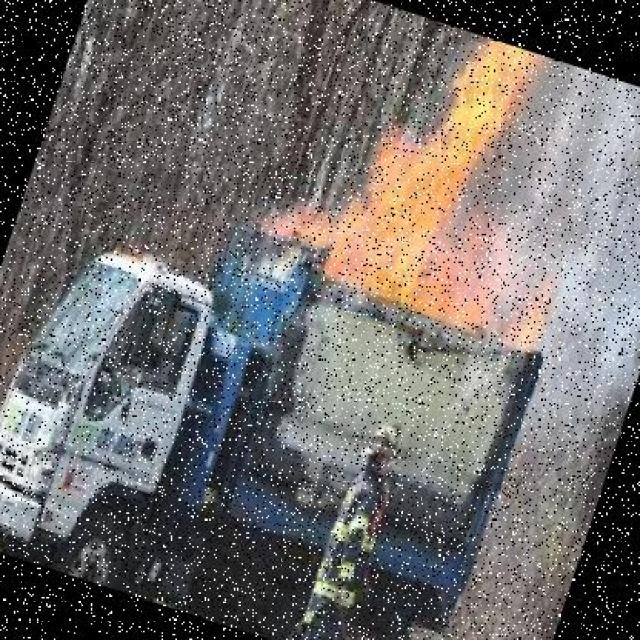fire: (242, 0, 638, 391)
